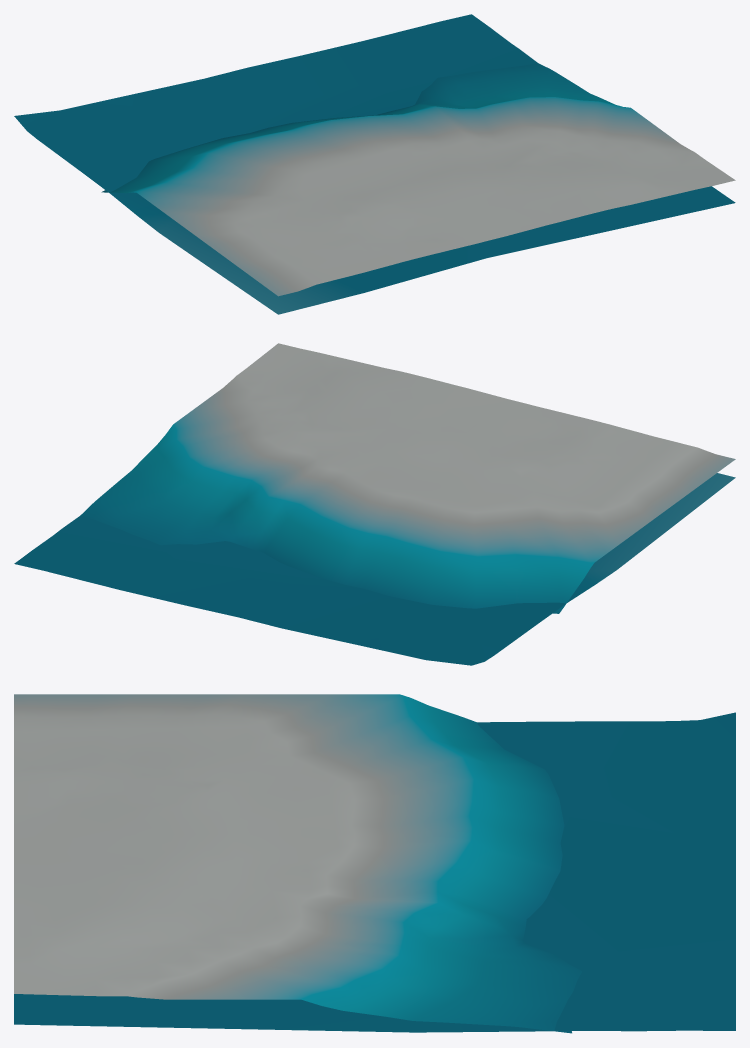
3 renders of one model, top to bottom at view 1: azimuth 30°, elevation 25°; view 2: azimuth 150°, elevation 25°; view 3: azimuth 270°, elevation 25°, orthographic. The views are drawn at different scales.
Parts seen in each view (by area): view 1: G:\FFXIV-MapTools\exports\s1f3\bg\ffxiv\sea_s1\fld\s1f3\bgpl (×7); view 2: G:\FFXIV-MapTools\exports\s1f3\bg\ffxiv\sea_s1\fld\s1f3\bgpl (×7); view 3: G:\FFXIV-MapTools\exports\s1f3\bg\ffxiv\sea_s1\fld\s1f3\bgpl (×8).
Part boxes in pixels (box(x1,y1,x2,y2)): G:\FFXIV-MapTools\exports\s1f3\bg\ffxiv\sea_s1\fld\s1f3\bgpl (×7): box(27, 14, 735, 314); G:\FFXIV-MapTools\exports\s1f3\bg\ffxiv\sea_s1\fld\s1f3\bgpl (×7): box(14, 343, 735, 661); G:\FFXIV-MapTools\exports\s1f3\bg\ffxiv\sea_s1\fld\s1f3\bgpl (×8): box(14, 694, 735, 1033).
Size of the model in its own units: 128 by 9.17 by 128.
